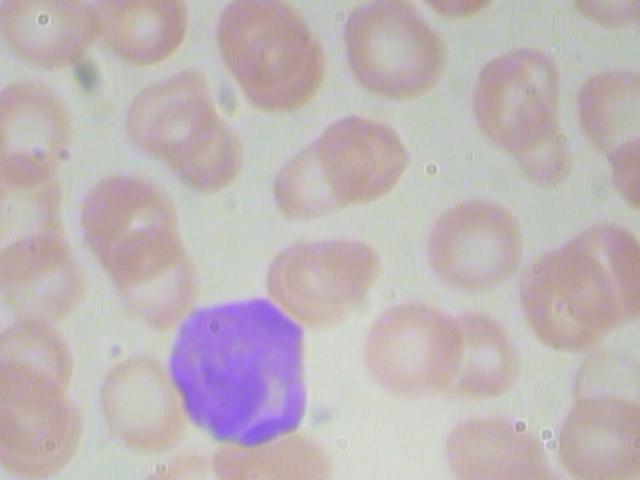RBC: (338, 1, 453, 108), (77, 173, 184, 284), (516, 245, 623, 356), (415, 196, 531, 295), (95, 225, 200, 327), (87, 350, 189, 454), (363, 296, 464, 400), (269, 129, 379, 224), (120, 64, 219, 161), (313, 109, 412, 206), (469, 45, 568, 142), (0, 72, 80, 190), (212, 1, 313, 92), (0, 233, 87, 337), (432, 309, 524, 399), (284, 233, 385, 305), (0, 1, 102, 69), (89, 1, 190, 69)
WBC: (164, 297, 321, 453)
